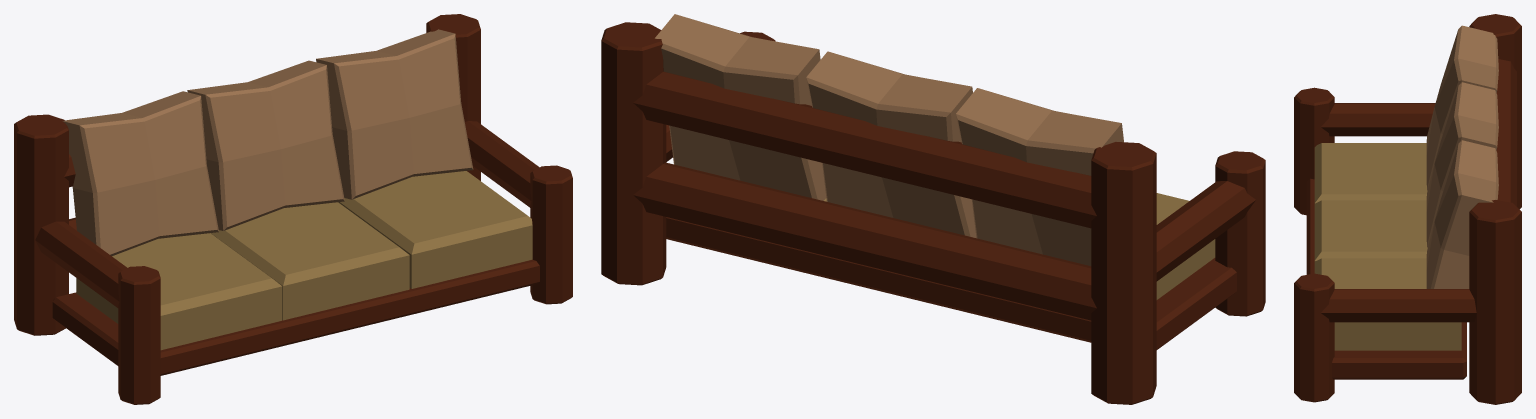
File: ThreeSeaterCouch1.glb
3 renders of one model, left to right at view 1: azimuth 30°, elevation 25°; view 2: azimuth 150°, elevation 25°; view 3: azimuth 270°, elevation 25°, orthographic. The views are drawn at different scales.
Visible parts, largest first — view 1: ThreeSeaterCouch1, Pad1ThreeSeaterCouch1, Pad3ThreeSeaterCouch1, Pad2ThreeSeaterCouch1, Pad5ThreeSeaterCouch1, Pad6ThreeSeaterCouch1, Pad4ThreeSeaterCouch1; view 2: ThreeSeaterCouch1, Pad3ThreeSeaterCouch1, Pad2ThreeSeaterCouch1, Pad1ThreeSeaterCouch1, Pad4ThreeSeaterCouch1; view 3: ThreeSeaterCouch1, Pad6ThreeSeaterCouch1, Pad5ThreeSeaterCouch1, Pad4ThreeSeaterCouch1, Pad3ThreeSeaterCouch1, Pad2ThreeSeaterCouch1, Pad1ThreeSeaterCouch1.
Boxes of the visible parts, x1,y1,x2,y2 form: ThreeSeaterCouch1: [14, 14, 572, 404]; Pad1ThreeSeaterCouch1: [62, 91, 218, 255]; Pad3ThreeSeaterCouch1: [316, 29, 473, 199]; Pad2ThreeSeaterCouch1: [187, 60, 344, 230]; Pad5ThreeSeaterCouch1: [210, 202, 409, 320]; Pad6ThreeSeaterCouch1: [338, 171, 532, 288]; Pad4ThreeSeaterCouch1: [76, 233, 282, 350]; ThreeSeaterCouch1: [601, 22, 1265, 404]; Pad3ThreeSeaterCouch1: [655, 14, 826, 200]; Pad2ThreeSeaterCouch1: [806, 51, 976, 237]; Pad1ThreeSeaterCouch1: [956, 88, 1123, 265]; Pad4ThreeSeaterCouch1: [1156, 193, 1215, 299]; ThreeSeaterCouch1: [1294, 14, 1521, 404]; Pad6ThreeSeaterCouch1: [1314, 258, 1461, 350]; Pad5ThreeSeaterCouch1: [1314, 200, 1427, 261]; Pad4ThreeSeaterCouch1: [1314, 143, 1427, 203]; Pad3ThreeSeaterCouch1: [1426, 140, 1498, 288]; Pad2ThreeSeaterCouch1: [1426, 82, 1498, 247]; Pad1ThreeSeaterCouch1: [1426, 25, 1498, 190].
Bounding box in the file's own units: 2.56 × 1.1 × 1.18.
